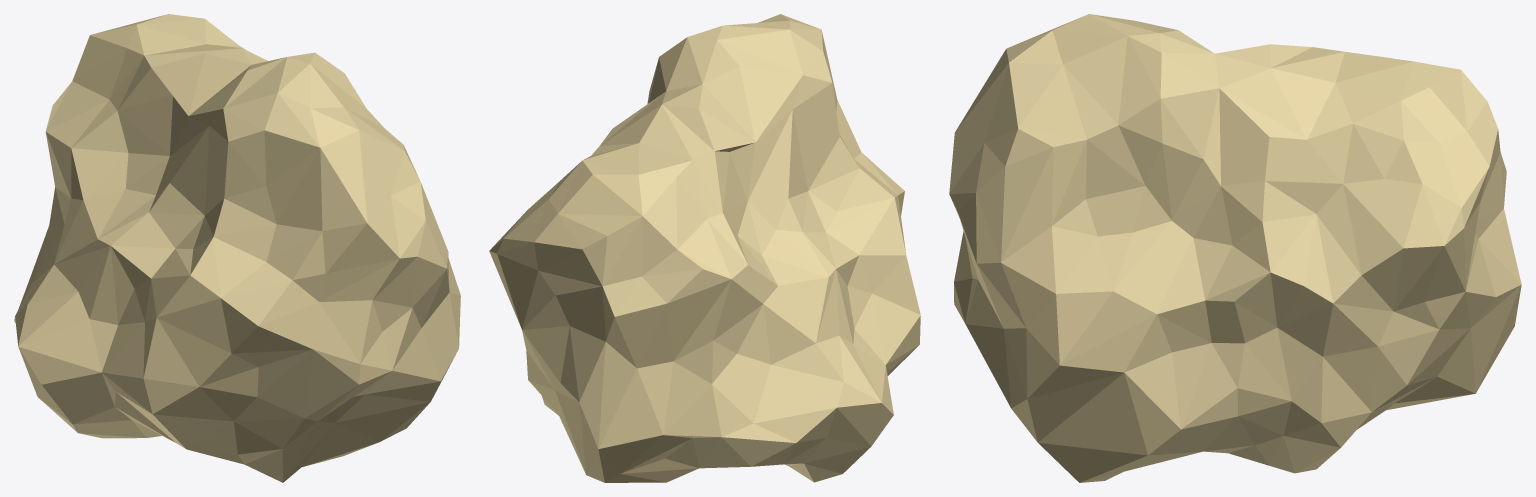
Rendered from Asteroid (28).fbx.
3 views of the same model, side by side, from view 1: azimuth 30°, elevation 25°; view 2: azimuth 150°, elevation 25°; view 3: azimuth 270°, elevation 25° (orthographic). The views are drawn at different scales.
Visible parts, largest first — view 1: Asteroid108; view 2: Asteroid108; view 3: Asteroid108.
Part boxes in pixels (<box>): Asteroid108: <box>14,14,460,482</box>; Asteroid108: <box>489,14,920,482</box>; Asteroid108: <box>949,14,1521,482</box>.
Size of the model in its own units: 218 by 235 by 282.
